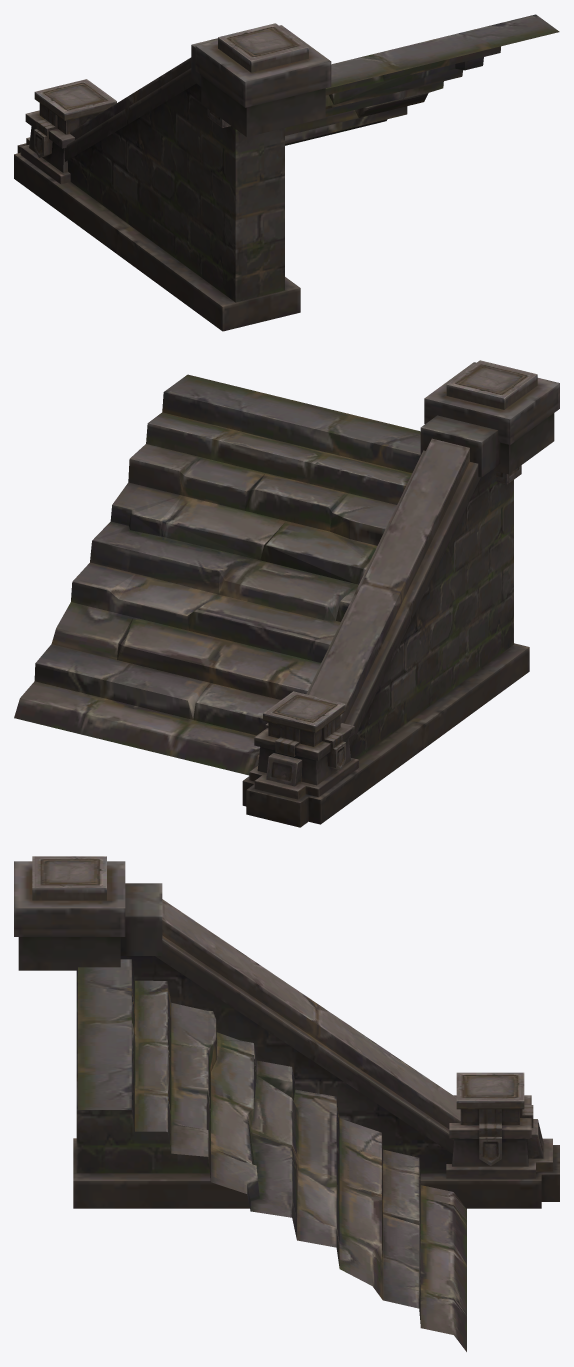
Rendered from 2_DXSD_ZhuanTaiJie_01.FBX.
3 renders of one model, top to bottom at view 1: azimuth 30°, elevation 25°; view 2: azimuth 150°, elevation 25°; view 3: azimuth 270°, elevation 25°, orthographic. The views are drawn at different scales.
Visible parts, largest first — view 1: 2_DXSD_ZhuanTaiJie_02, 2_DXSD_ZhuanTaiJie_01; view 2: 2_DXSD_ZhuanTaiJie_01, 2_DXSD_ZhuanTaiJie_02; view 3: 2_DXSD_ZhuanTaiJie_02, 2_DXSD_ZhuanTaiJie_01.
Boxes of the visible parts, x1,y1,x2,y2 form: 2_DXSD_ZhuanTaiJie_02: (14, 23, 331, 331); 2_DXSD_ZhuanTaiJie_01: (285, 14, 559, 145); 2_DXSD_ZhuanTaiJie_01: (14, 374, 420, 775); 2_DXSD_ZhuanTaiJie_02: (242, 360, 559, 827); 2_DXSD_ZhuanTaiJie_02: (14, 856, 559, 1208); 2_DXSD_ZhuanTaiJie_01: (78, 959, 466, 1351).
Size of the model in its own units: 320 by 251 by 393.
